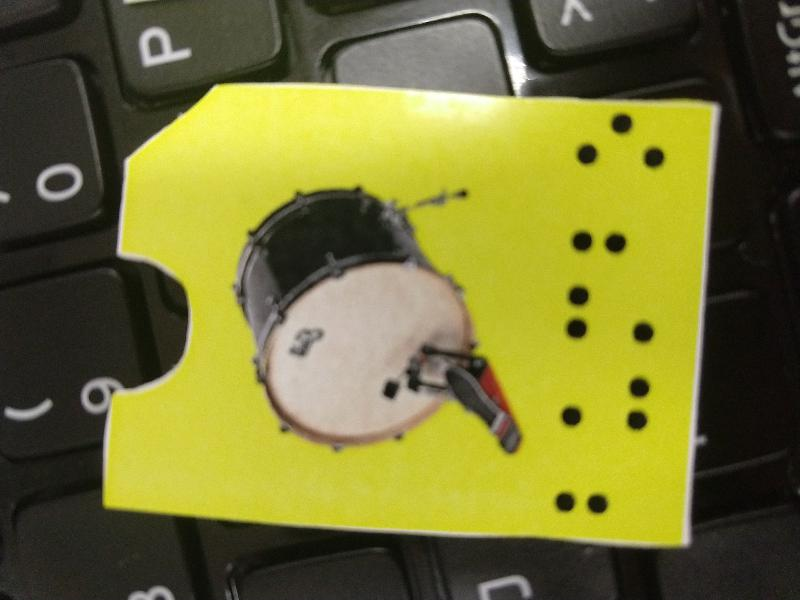bumbo: (90, 74, 721, 545)
